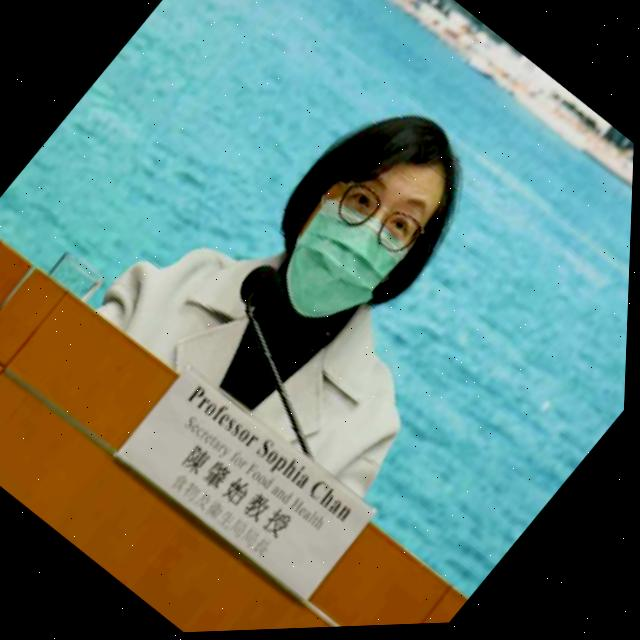Mask: (248, 169, 435, 356)
